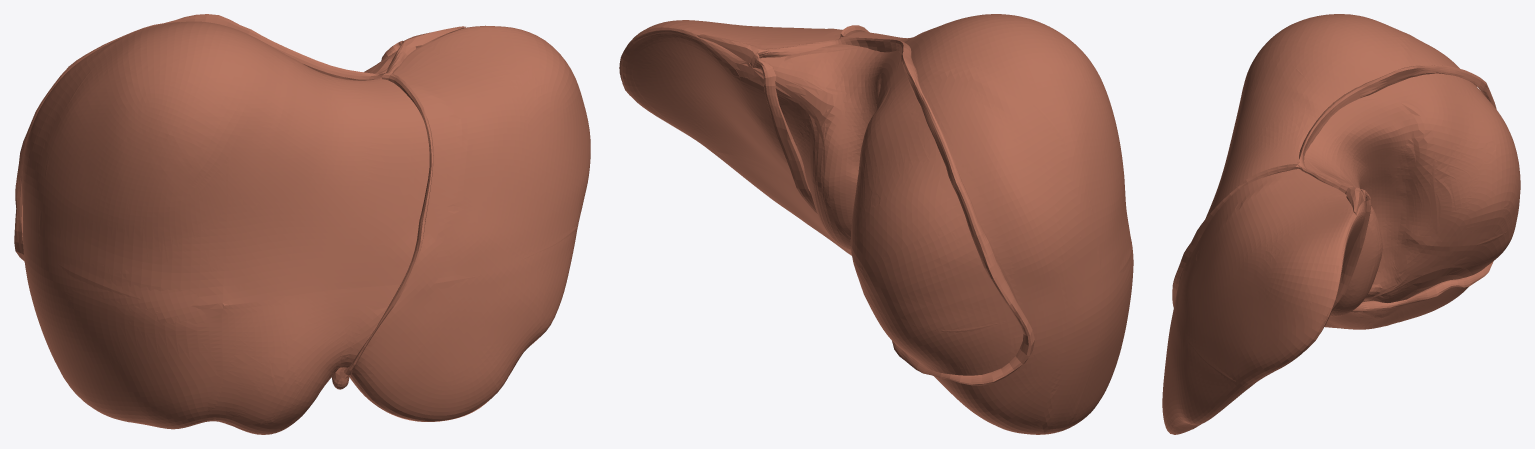
The model's file is liver.glb.
3 views of the same model, side by side, from view 1: azimuth 30°, elevation 25°; view 2: azimuth 150°, elevation 25°; view 3: azimuth 270°, elevation 25° (orthographic). The views are drawn at different scales.
Parts seen in each view (by area): view 1: liver; view 2: liver; view 3: liver.
Part boxes in pixels (x1=…): liver: x1=14, y1=14, x2=590, y2=434; liver: x1=619, y1=14, x2=1133, y2=434; liver: x1=1162, y1=14, x2=1520, y2=434.
Bounding box in the file's own units: 0.2471 × 0.17 × 0.1663.
